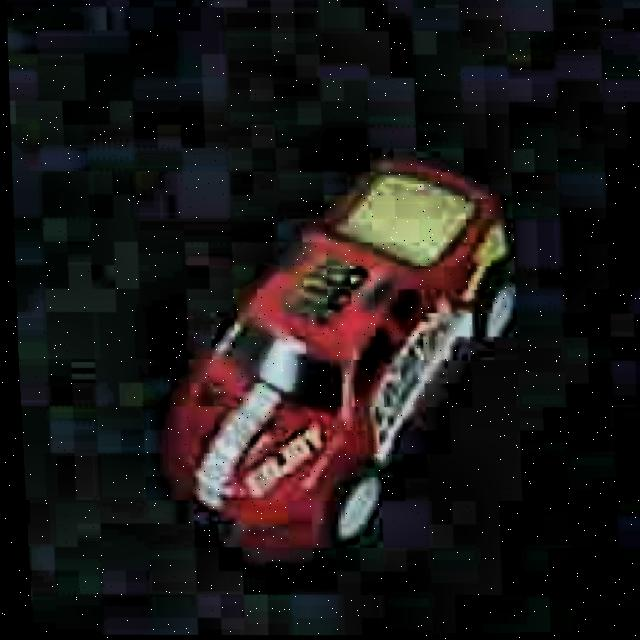car: (139, 146, 542, 564)
